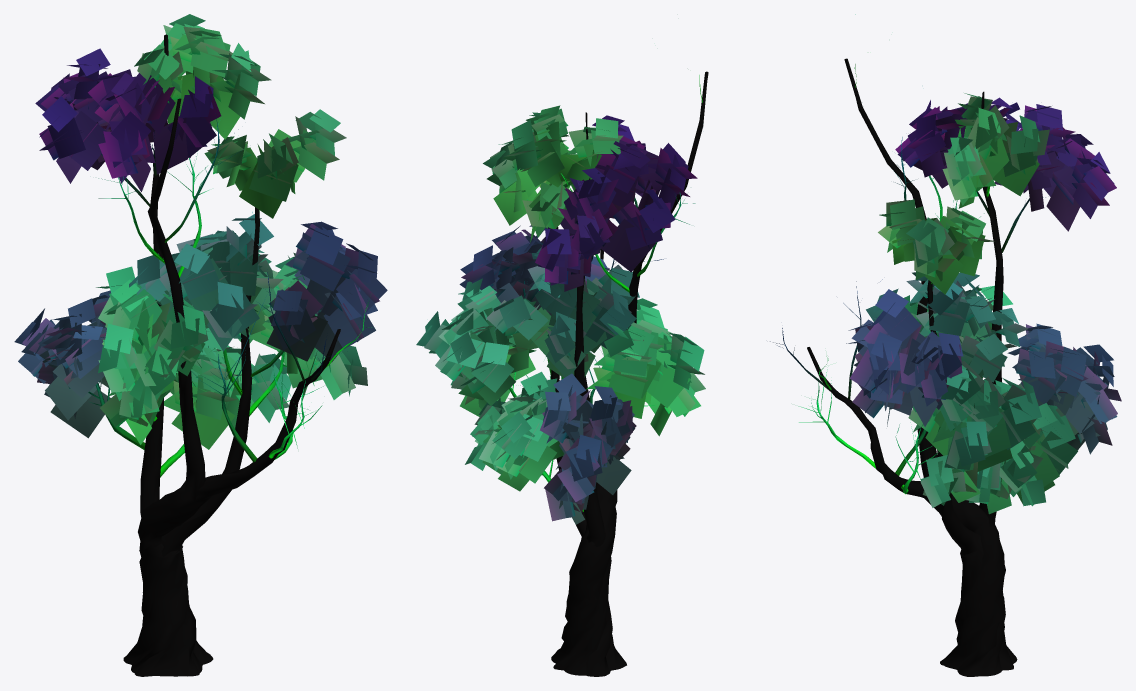
Rendered from Tree_5.fbx.
The picture shows the model from 3 angles, left to right: view 1: azimuth 30°, elevation 25°; view 2: azimuth 150°, elevation 25°; view 3: azimuth 270°, elevation 25°; orthographic projection. The views are drawn at different scales.
Visible parts, largest first — view 1: Tree_2; view 2: Tree_2; view 3: Tree_2.
Boxes of the visible parts, box(x1,y1,x2,y2) form: Tree_2: box(14, 14, 387, 676); Tree_2: box(416, 71, 708, 676); Tree_2: box(770, 14, 1121, 676).
Size of the model in its own units: 437 by 899 by 470.
